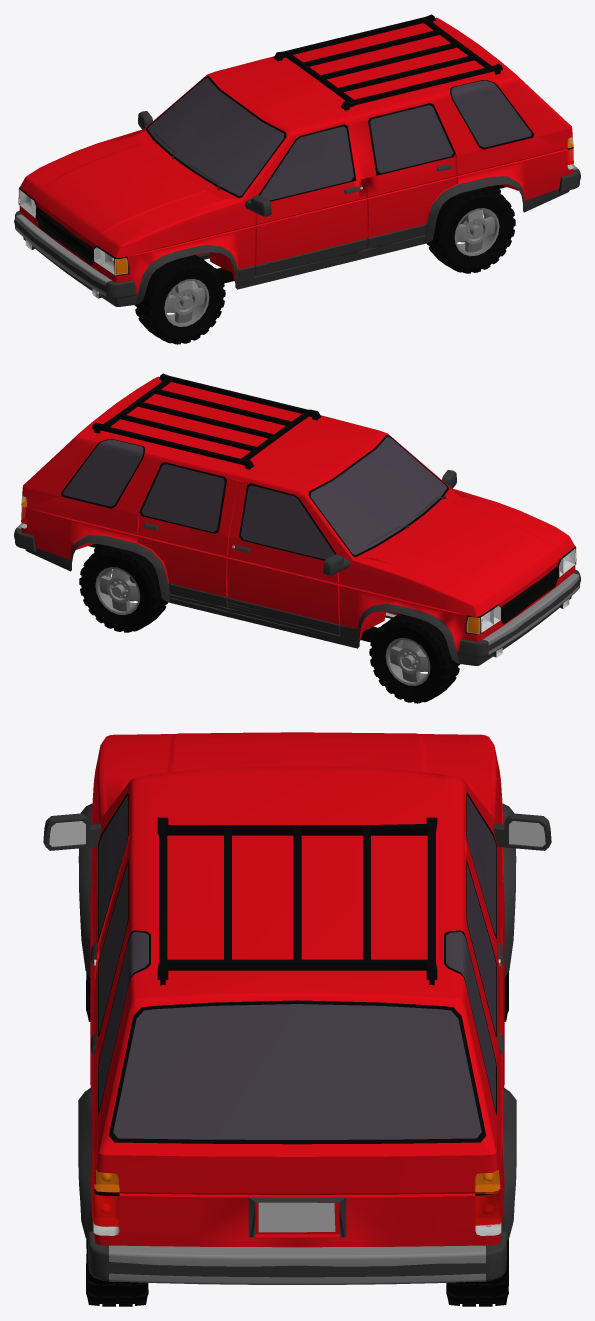
Rendered from Car2.fbx.
3 views of the same model, one above another, from view 1: azimuth 30°, elevation 25°; view 2: azimuth 150°, elevation 25°; view 3: azimuth 270°, elevation 25° (orthographic). The views are drawn at different scales.
Visible parts, largest first — view 1: Car2; view 2: Car2; view 3: Car2.
Part boxes in pixels (x1=…): Car2: x1=14, y1=14, x2=580, y2=344; Car2: x1=14, y1=373, x2=580, y2=703; Car2: x1=43, y1=732, x2=551, y2=1306.
Bounding box in the file's own units: 411 × 151 × 188.
